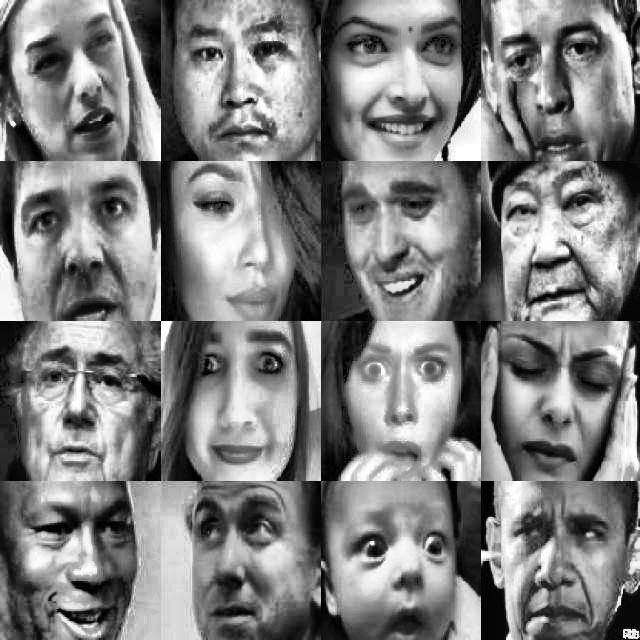angry: (495, 325, 618, 476), (498, 164, 610, 316), (503, 496, 614, 639)
fear: (333, 494, 459, 640), (340, 329, 460, 478), (180, 326, 296, 472), (189, 489, 286, 638)
happy: (330, 8, 472, 156), (331, 170, 460, 313), (21, 489, 137, 640)
neutral: (16, 170, 142, 316), (185, 160, 299, 314), (178, 9, 300, 151), (22, 5, 139, 151)
sad: (498, 16, 610, 159), (25, 335, 134, 475)
